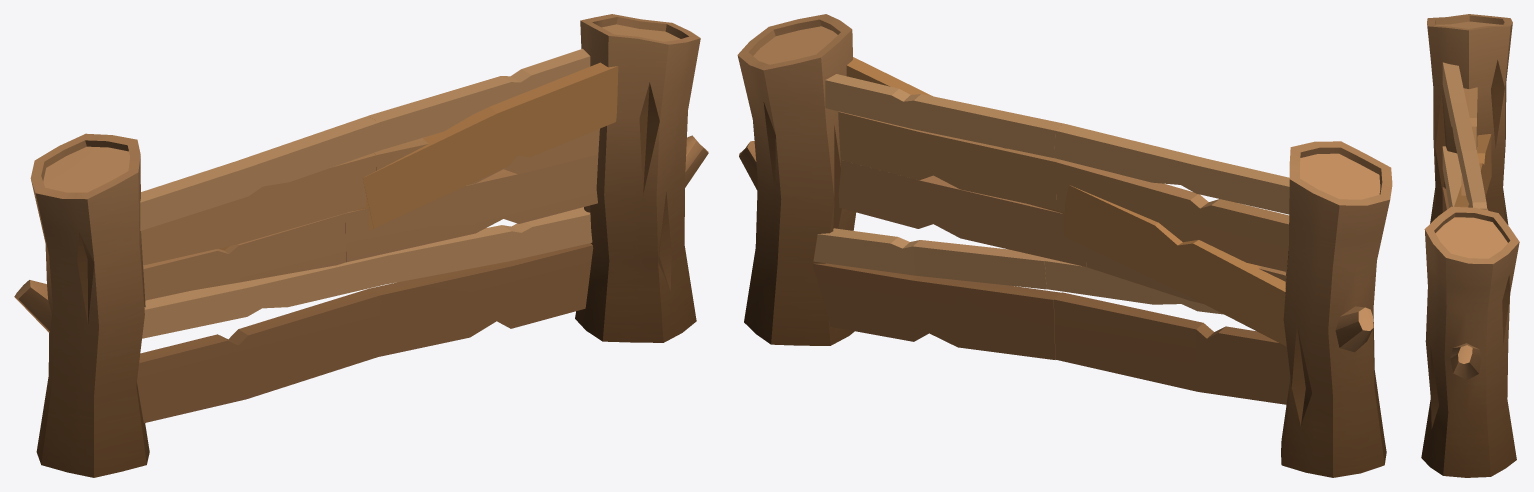
File: Fence.fbx
The picture shows the model from 3 angles, left to right: view 1: azimuth 30°, elevation 25°; view 2: azimuth 150°, elevation 25°; view 3: azimuth 270°, elevation 25°; orthographic projection. The views are drawn at different scales.
Visible parts, largest first — view 1: Trunk_Stade_02, Trunk_Stade_2, Plank_Stade_02, Plank_Stade_02.004, Plank_Stade_02.005, Plank_Stade_01.004, Plank_Stade_01.003, Plank_Stade_02.002, Plank_Stade_01.005, Plank_Stade_01.001, Plank_Stade_01, Plank_Stade_02.003 (+1 smaller); view 2: Trunk_Stade_02, Trunk_Stade_2, Plank_Stade_02, Plank_Stade_02.005, Plank_Stade_02.001, Plank_Stade_01.004, Plank_Stade_01.002, Plank_Stade_01.003, Plank_Stade_02.002, Plank_Stade_02.003, Plank_Stade_01, Plank_Stade_01.005 (+2 smaller); view 3: Trunk_Stade_2, Trunk_Stade_02, Plank_Stade_02.002, Plank_Stade_02.003, Plank_Stade_01.005, Plank_Stade_02.001, Plank_Stade_01.003, Plank_Stade_02.004, Plank_Stade_02.
Part boxes in pixels (x1,y1,x2,y2): Trunk_Stade_02: [14, 133, 149, 477]; Trunk_Stade_2: [575, 14, 708, 342]; Plank_Stade_02: [137, 288, 380, 422]; Plank_Stade_02.004: [362, 62, 618, 228]; Plank_Stade_02.005: [370, 243, 593, 356]; Plank_Stade_01.004: [345, 154, 598, 262]; Plank_Stade_01.003: [141, 153, 376, 265]; Plank_Stade_02.002: [140, 115, 380, 230]; Plank_Stade_01.005: [142, 253, 389, 338]; Plank_Stade_01.001: [143, 213, 345, 300]; Plank_Stade_01: [387, 207, 592, 283]; Plank_Stade_02.003: [369, 48, 590, 150]; Trunk_Stade_02: [1281, 141, 1392, 477]; Trunk_Stade_2: [737, 14, 856, 345]; Plank_Stade_02: [1054, 292, 1290, 404]; Plank_Stade_02.005: [812, 263, 1060, 359]; Plank_Stade_02.001: [1063, 185, 1286, 346]; Plank_Stade_01.004: [838, 160, 1086, 266]; Plank_Stade_01.002: [838, 111, 1059, 209]; Plank_Stade_01.003: [1056, 159, 1289, 271]; Plank_Stade_02.002: [1054, 123, 1289, 214]; Plank_Stade_02.003: [825, 74, 1062, 158]; Plank_Stade_01: [813, 228, 1047, 289]; Plank_Stade_01.005: [1044, 258, 1223, 314]; Trunk_Stade_2: [1421, 206, 1519, 477]; Trunk_Stade_02: [1427, 14, 1512, 224]; Plank_Stade_02.002: [1442, 62, 1476, 172]; Plank_Stade_02.003: [1461, 150, 1488, 210]; Plank_Stade_01.005: [1442, 146, 1461, 207]; Plank_Stade_02.001: [1477, 134, 1491, 196]; Plank_Stade_01.003: [1461, 87, 1477, 174]; Plank_Stade_02.004: [1454, 186, 1469, 207]; Plank_Stade_02: [1442, 187, 1448, 212].
Bounding box in the file's own units: 702 × 303 × 114.
